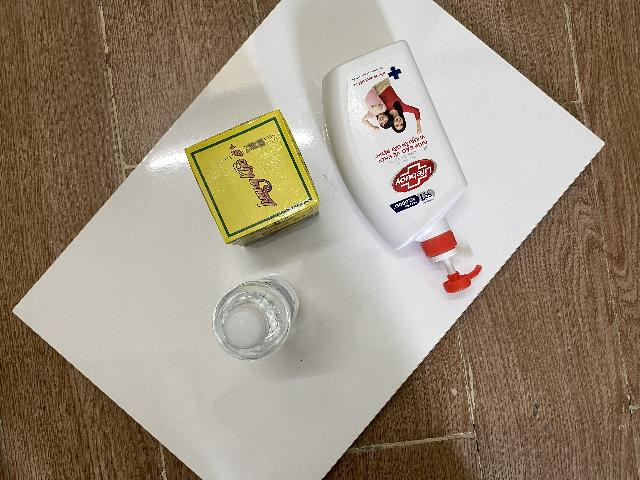aquafina: (212, 277, 298, 362)
life-buoy: (322, 40, 482, 294)
luong_kho: (184, 110, 320, 247)
